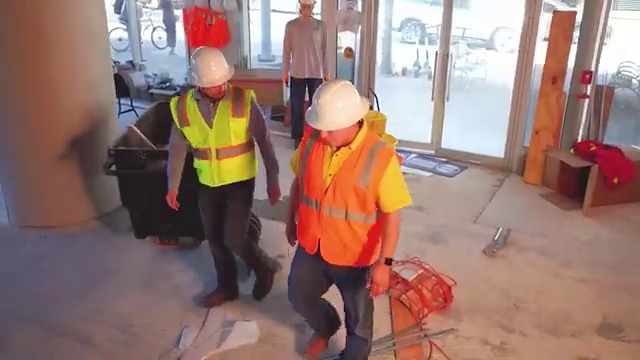helmet: (298, 72, 376, 134), (179, 42, 252, 85)
jacket: (293, 139, 393, 284), (169, 87, 264, 181)
